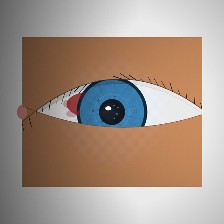hemorrhage_spot: (58, 78, 123, 130)
